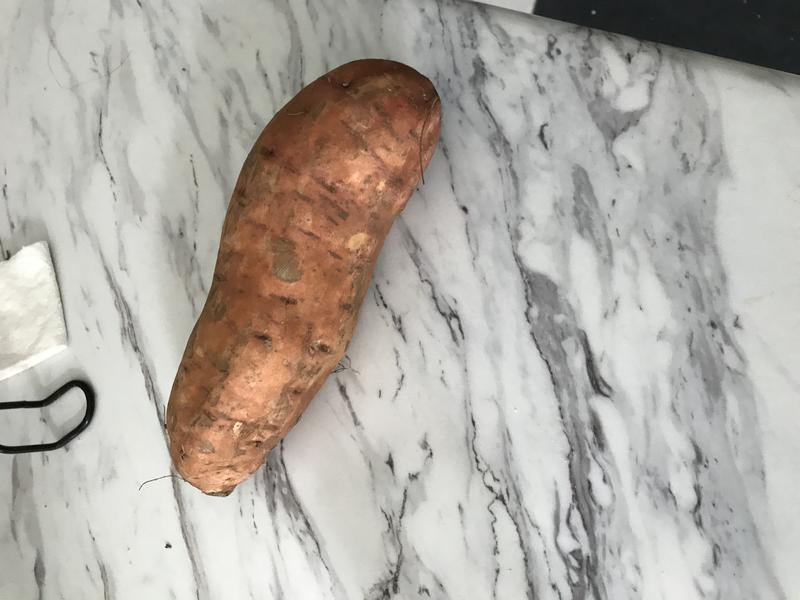sweet_potato: (155, 46, 449, 508)
